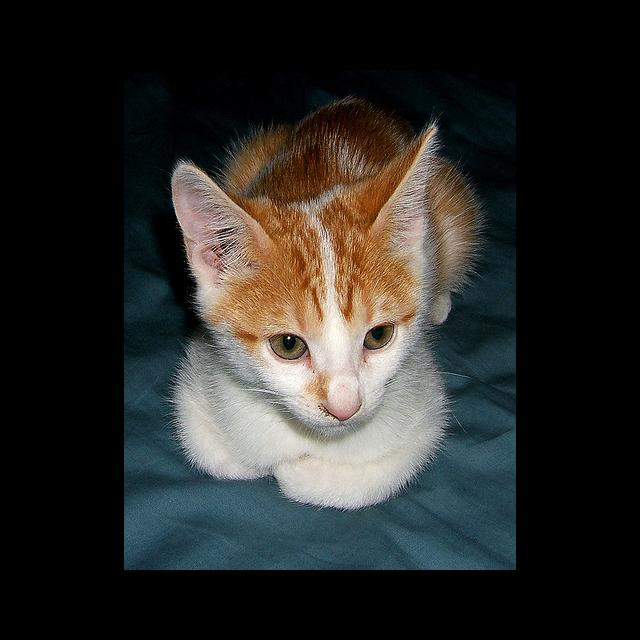animals: (182, 127, 432, 419)
